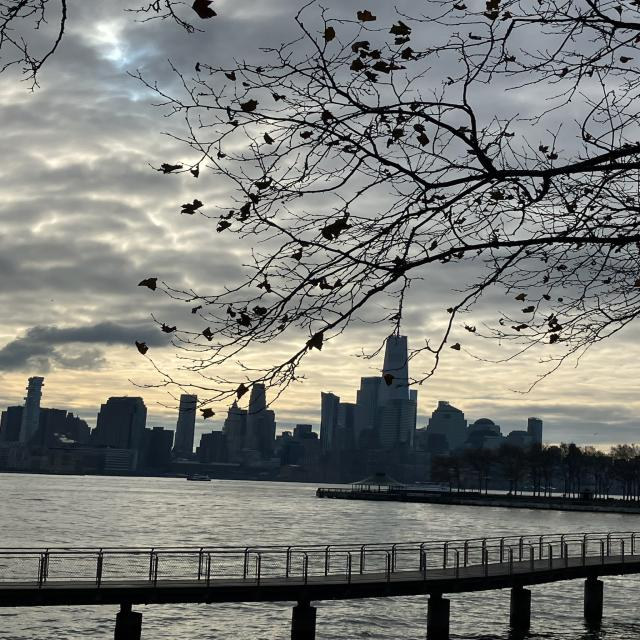WTC: (379, 320, 412, 400)
